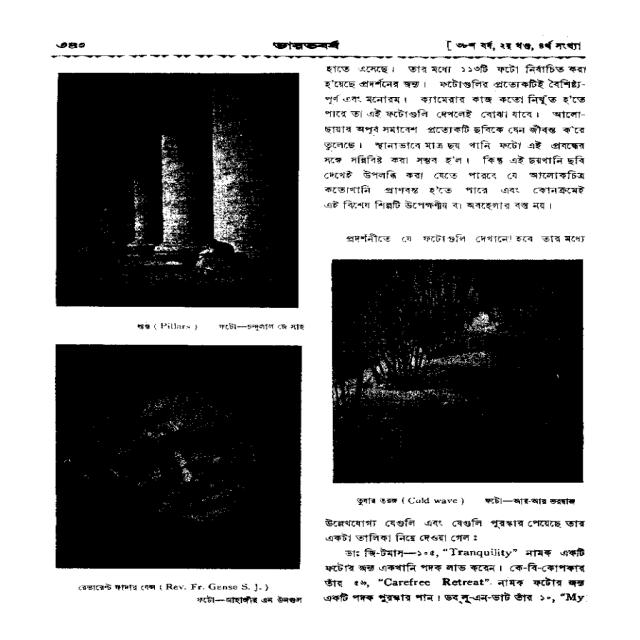caption: (343, 492, 582, 509), (127, 320, 308, 335), (73, 580, 274, 593)
image: (51, 69, 304, 313), (320, 257, 587, 484), (49, 343, 303, 571)
page number: (45, 36, 98, 54)
paragraph: (315, 58, 596, 217), (317, 545, 601, 606), (316, 513, 600, 543), (335, 229, 601, 248)
text: (433, 36, 600, 52), (187, 595, 306, 608), (257, 37, 357, 52)
